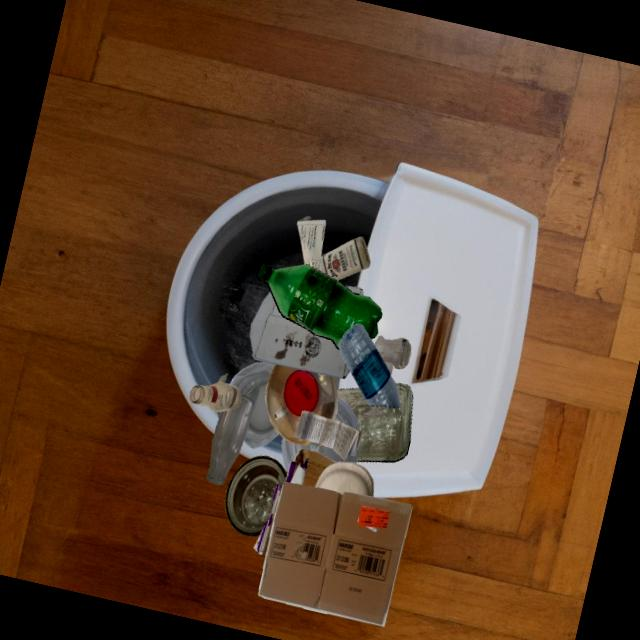cardboard: (257, 481, 412, 626), (249, 291, 349, 379), (253, 483, 282, 557), (284, 448, 336, 487)
glass: (336, 383, 412, 462), (225, 456, 286, 536), (206, 394, 254, 485), (314, 236, 370, 280), (189, 381, 241, 412), (221, 373, 254, 411), (374, 335, 410, 368), (362, 405, 384, 417), (383, 361, 392, 375)
paper: (294, 410, 364, 460), (314, 461, 373, 496), (296, 216, 325, 268)
plastic: (256, 263, 381, 349), (265, 364, 337, 444), (338, 323, 399, 408), (229, 362, 278, 448), (281, 436, 359, 471), (334, 398, 359, 430), (317, 373, 326, 375)
